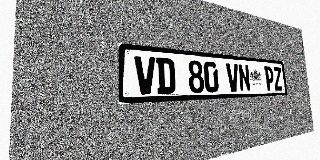0: (203, 61, 219, 93)
8: (187, 60, 204, 93)
D: (156, 57, 176, 94)
N: (238, 64, 251, 91)
P: (264, 66, 275, 91)
V: (134, 55, 156, 95), (226, 63, 240, 92)
Z: (273, 67, 283, 90)
